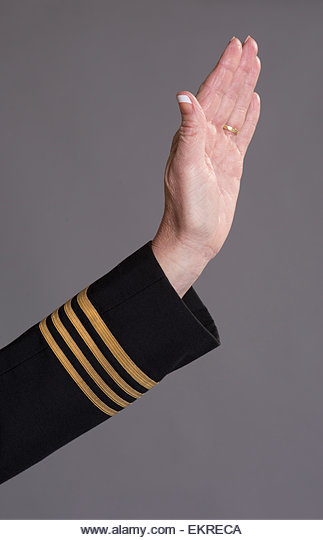non-diseased: (178, 37, 270, 268)
